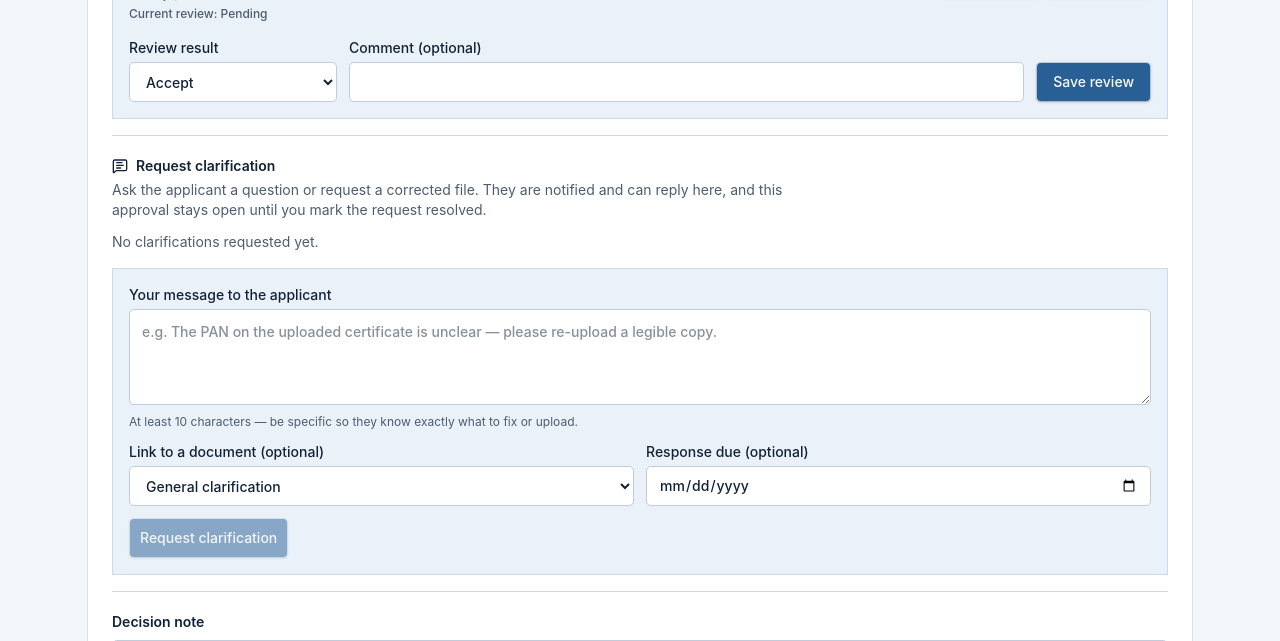
Test: inspector workflow › lets an inspector request a clarification after starting review
The width and height of the screenshot is (1280, 641).
(page scrolled)
Type "Please confirm the furnace capacity shown in the plan." into the 1st text box.
click(640, 357); type("Please confirm the furnace capacity shown in the plan.")  # box [129, 309, 1151, 405]
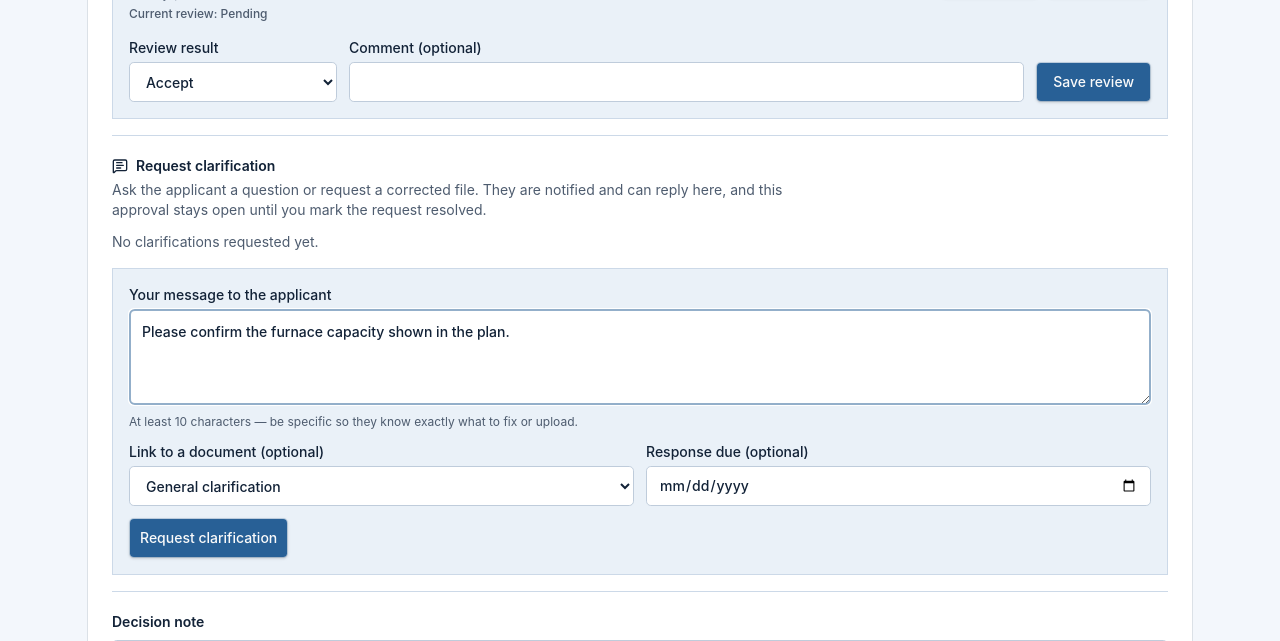
Click the button "Request clarification".
click(209, 538)  # box [129, 518, 288, 558]
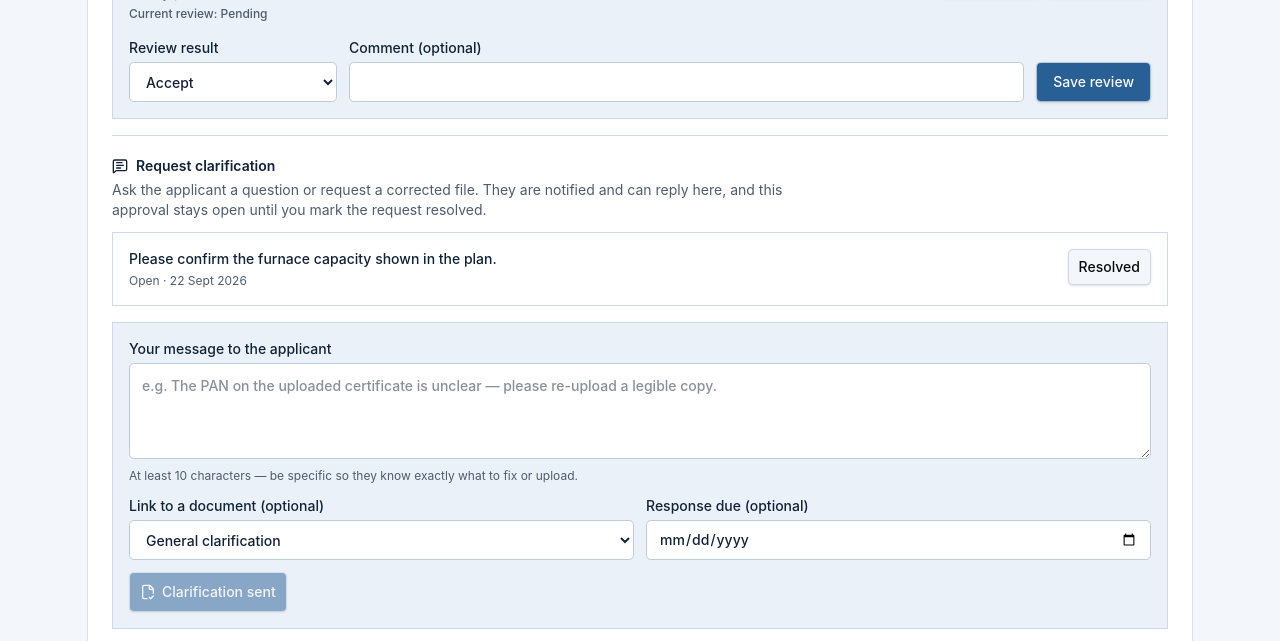
Result: the text "Please confirm the furnace capacity shown in the plan." is shown at [129, 249, 497, 269]
Result: the button "Clarification sent" is disabled at [129, 572, 287, 612]
